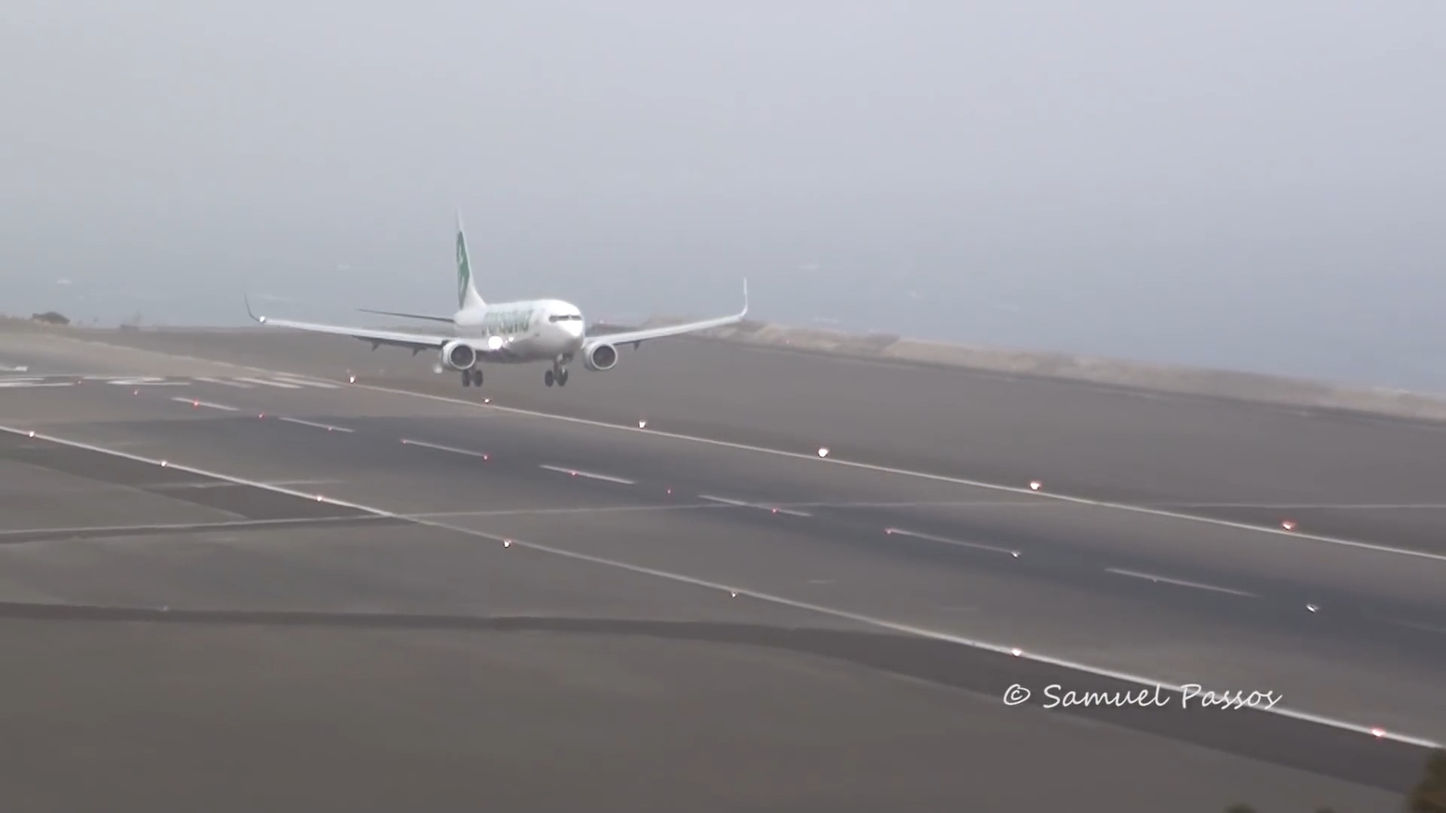airplane: (238, 209, 763, 391)
